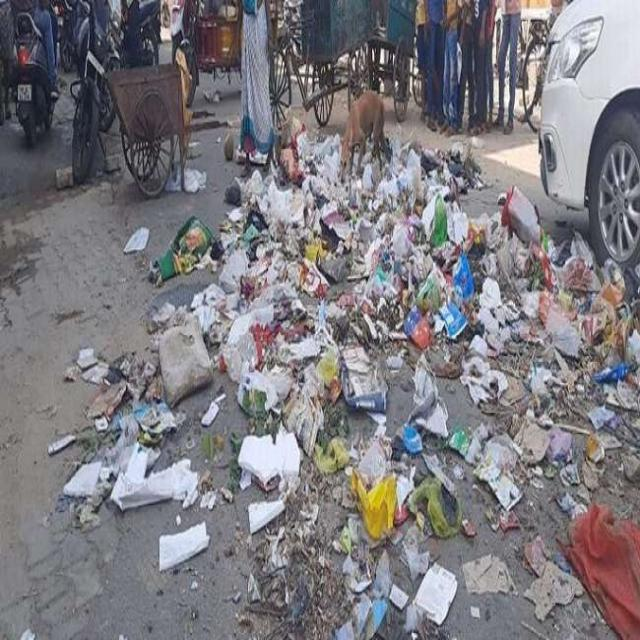garbage: (52, 97, 640, 640)
